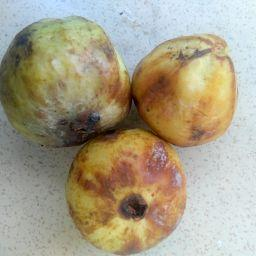guava: (1, 13, 133, 151), (63, 128, 190, 256), (133, 30, 243, 150)
